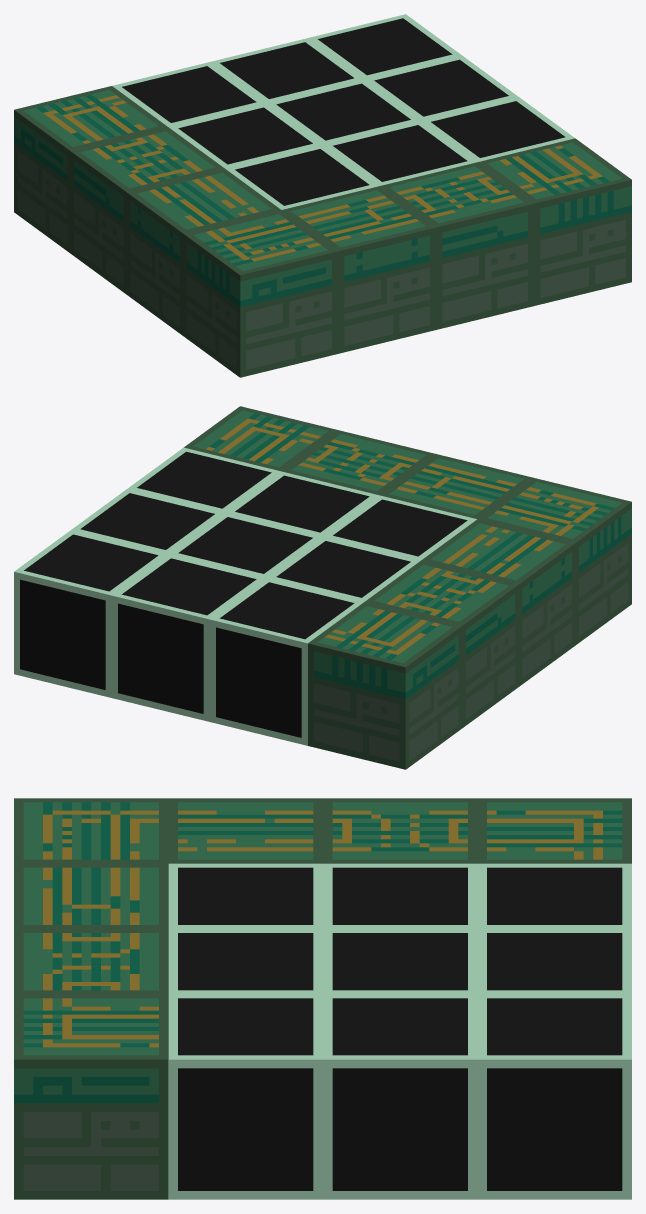
Rendered from m_tiles_15_4x4.fbx.
3 views of the same model, one above another, from view 1: azimuth 30°, elevation 25°; view 2: azimuth 150°, elevation 25°; view 3: azimuth 270°, elevation 25° (orthographic). The views are drawn at different scales.
Visible parts, largest first — view 1: m_tiles_15_4x4; view 2: m_tiles_15_4x4; view 3: m_tiles_15_4x4.
Boxes of the visible parts, box(x1,y1,x2,y2) form: m_tiles_15_4x4: box(14, 14, 631, 377); m_tiles_15_4x4: box(14, 406, 631, 769); m_tiles_15_4x4: box(14, 798, 631, 1199).
Size of the model in its own units: 6.4 by 1.6 by 6.4.
Materials: 1 (1 with a texture image).
